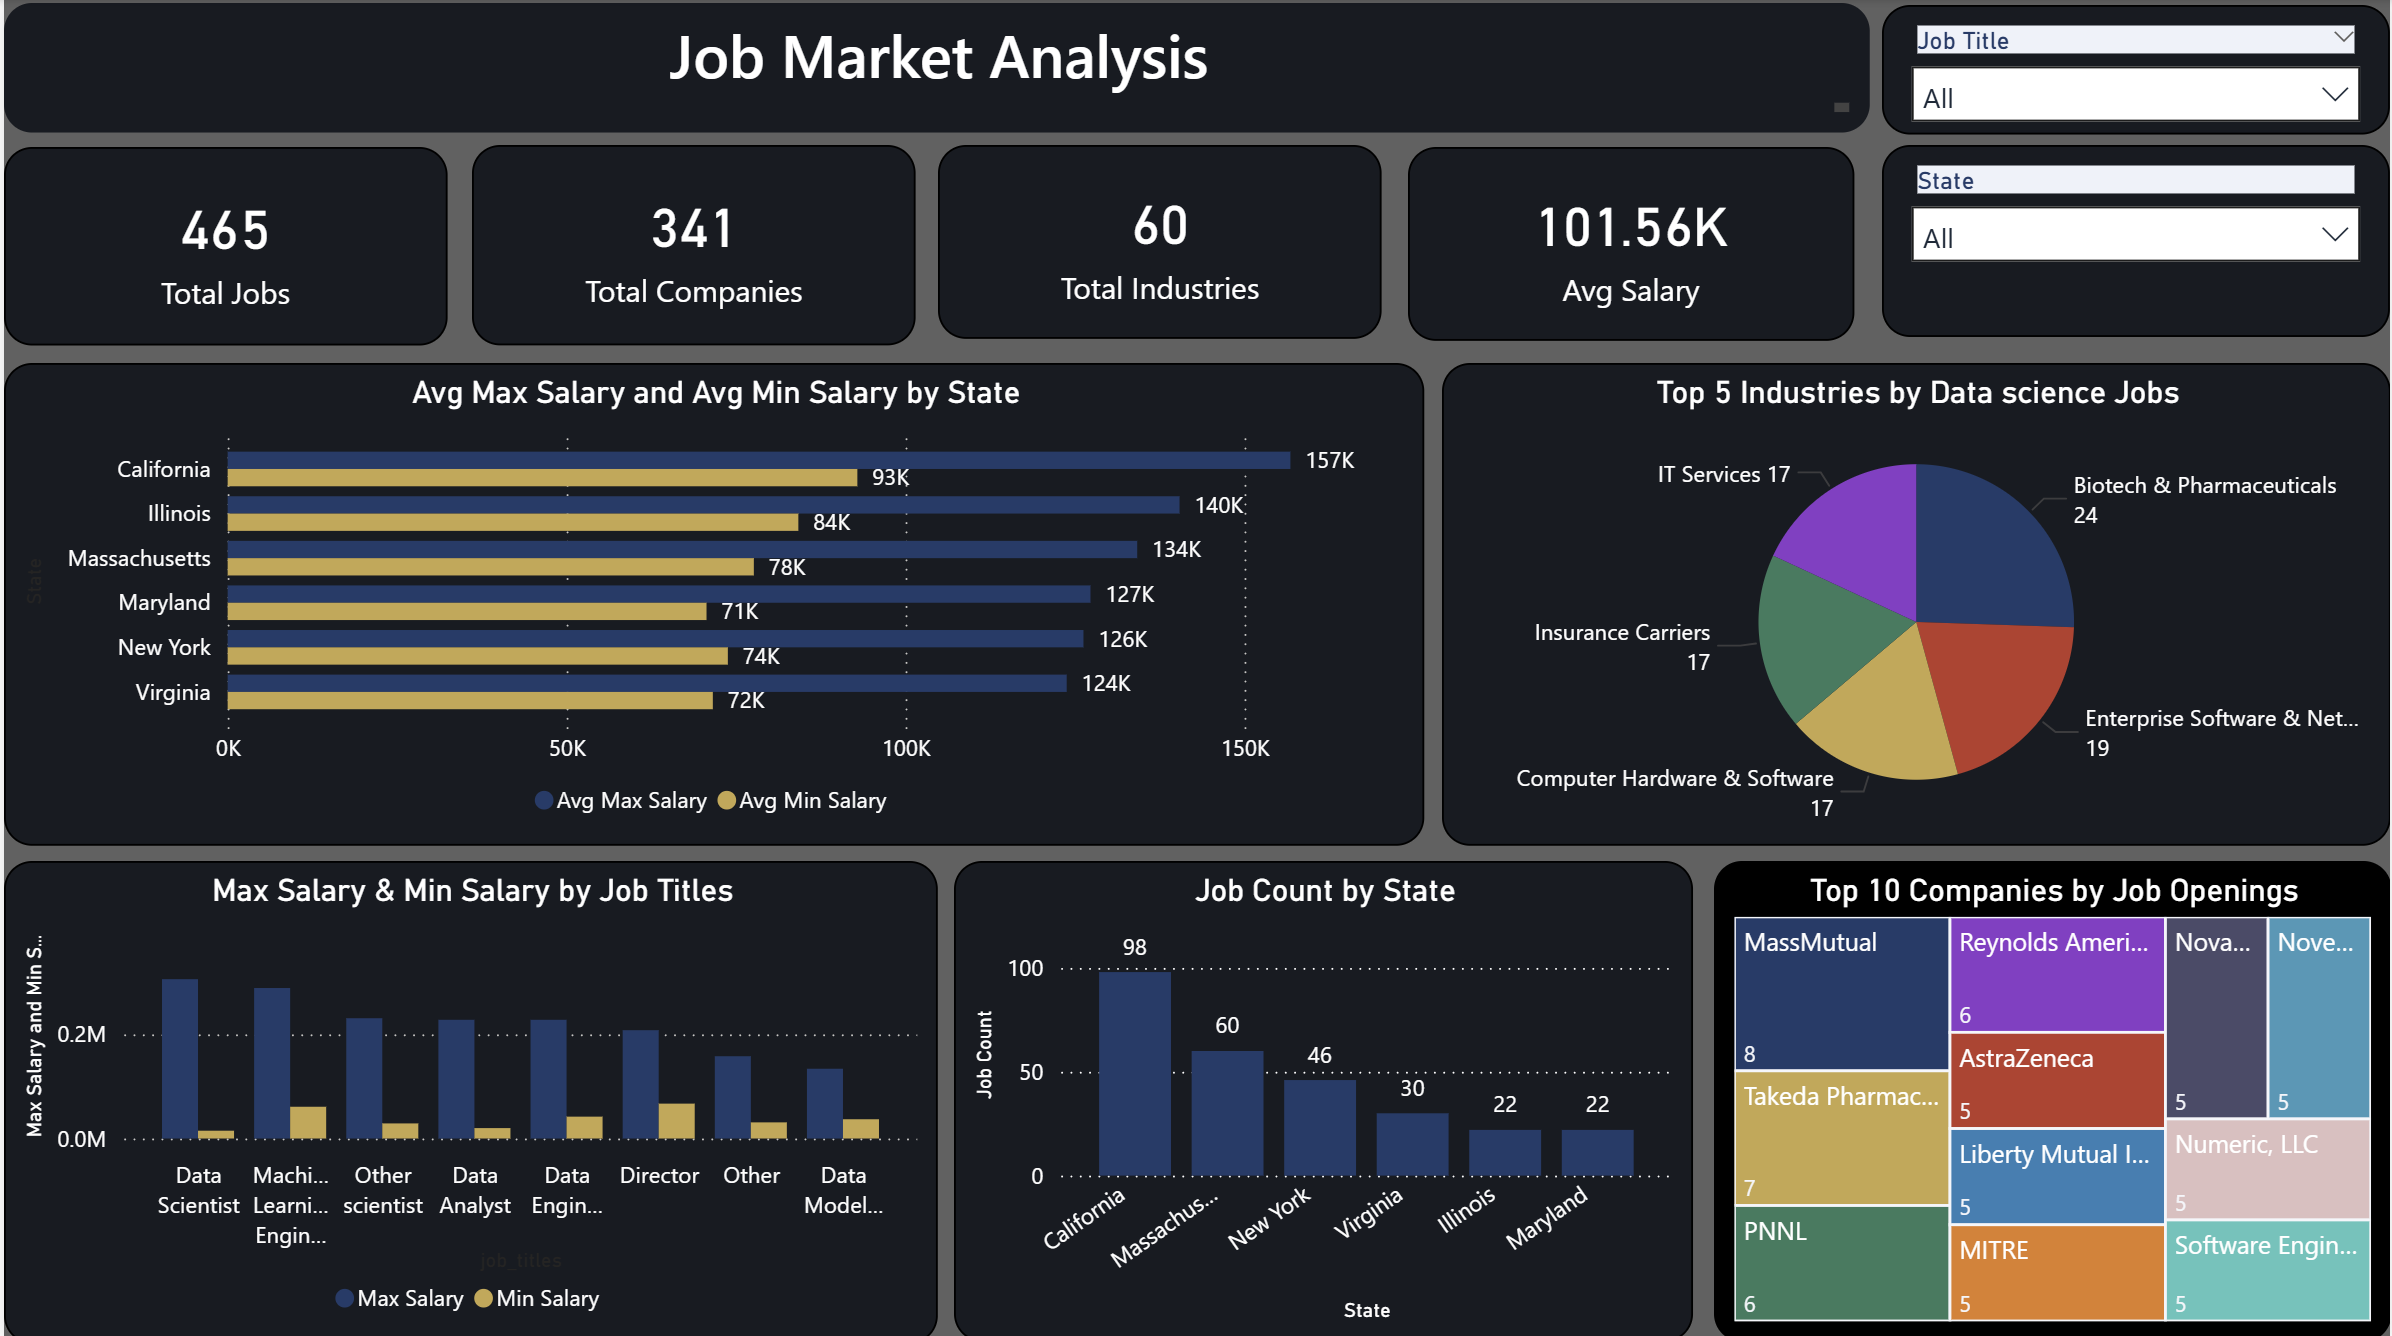

What the dashboard file says about the page in this screenshot:
{"tool":"powerbi","page":{"name":"page 1","canvas":[1280,720],"ordinal":0},"visuals":[{"type":"textbox","title":"Job Market Analysis","box":[0,2.1,1001.1,69.7],"z":0},{"type":"card","fields":{"Values":["Jobs_raw.Total Jobs"]},"box":[0,78.9,237.8,106.7],"z":1000},{"type":"clusteredBarChart","fields":{"Category":["StateMapping.State"],"Y":["Jobs_raw.Avg Max Salary","Jobs_raw.Avg Min Salary"]},"box":[0,195.6,762.2,258.9],"z":2000},{"type":"pieChart","title":"Top 5 Industries by Data science Jobs","fields":{"Category":["Jobs_raw.industry"],"Y":["Jobs_raw.DataScience_JobCount"]},"box":[771.1,195.6,508.9,258.9],"z":3000},{"type":"lineClusteredColumnComboChart","title":"Max Salary & Min Salary by Job Titles","fields":{"Category":["Jobs_raw.job_titles"],"Y":["Jobs_raw.Max Salary","Jobs_raw.Min Salary"]},"box":[0,462.2,501.1,258.9],"z":4000},{"type":"treemap","title":"Top 10 Companies by Job Openings","fields":{"Group":["Jobs_raw.company_Name"],"Values":["Jobs_raw.Job Count"]},"box":[917.8,462.2,363.3,257.8],"z":5000},{"type":"slicer","fields":{"Values":["Jobs_raw.job_title_sim"]},"box":[1007.6,3.2,272.5,69.7],"z":6000},{"type":"slicer","fields":{"Values":["Jobs_raw.StateMapping.State"]},"box":[1007.6,78.3,272.5,103],"z":7000},{"type":"card","fields":{"Values":["Jobs_raw.CompanyJobCount"]},"box":[251.1,78.3,238.2,107.3],"z":8000},{"type":"card","fields":{"Values":["Jobs_raw.Avg Salary"]},"box":[753.3,79.4,239.3,104.1],"z":9000},{"type":"card","fields":{"Values":["Jobs_raw.total_industry"]},"box":[501.1,78.3,238.2,104.1],"z":10000},{"type":"clusteredColumnChart","fields":{"Category":["StateMapping.State"],"Y":["Jobs_raw.Job Count"]},"box":[510,462.2,396.7,257.8],"z":11000}]}

Visuals, with their boxes in screenshot pixels (x1, y1, x2, y2), scaled from the page's 1280x720 canvas onto the 2392x1336 screenshot:
"Job Market Analysis" textbox: select_region(0, 4, 1871, 133)
card - Jobs_raw.Total Jobs: select_region(0, 146, 444, 344)
clusteredBarChart - StateMapping.State x Jobs_raw.Avg Max Salary: select_region(0, 363, 1424, 843)
"Top 5 Industries by Data science Jobs" pieChart: select_region(1441, 363, 2391, 843)
"Max Salary & Min Salary by Job Titles" lineClusteredColumnComboChart: select_region(0, 858, 936, 1335)
"Top 10 Companies by Job Openings" treemap: select_region(1715, 858, 2391, 1335)
slicer - Jobs_raw.job_title_sim: select_region(1883, 6, 2391, 135)
slicer - Jobs_raw.StateMapping.State: select_region(1883, 145, 2391, 336)
card - Jobs_raw.CompanyJobCount: select_region(469, 145, 914, 344)
card - Jobs_raw.Avg Salary: select_region(1408, 147, 1855, 340)
card - Jobs_raw.total_industry: select_region(936, 145, 1382, 338)
clusteredColumnChart - StateMapping.State x Jobs_raw.Job Count: select_region(953, 858, 1694, 1335)
